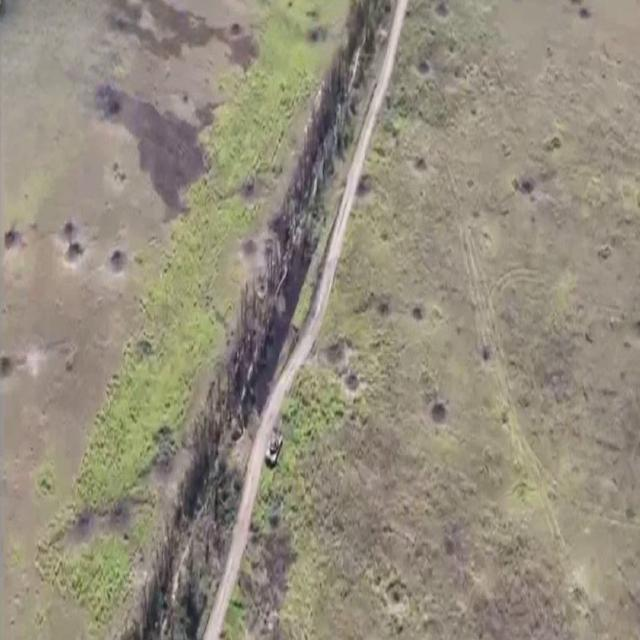MBT: (265, 420, 286, 475)
